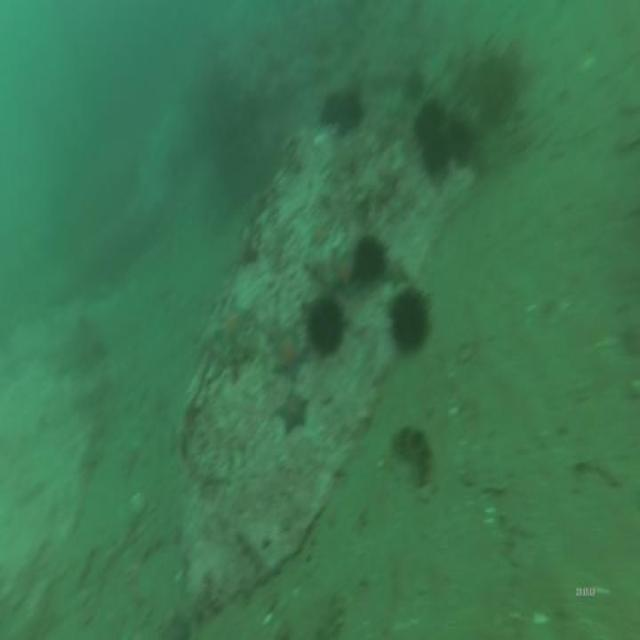echinus: (388, 284, 434, 362), (303, 289, 349, 360), (323, 85, 365, 139), (347, 234, 388, 286), (417, 125, 451, 178), (444, 106, 474, 164), (410, 95, 445, 144)
holothurian: (392, 416, 431, 498)
starfish: (212, 296, 252, 364), (313, 248, 354, 297), (271, 329, 307, 384), (273, 386, 309, 428), (384, 254, 406, 291)
